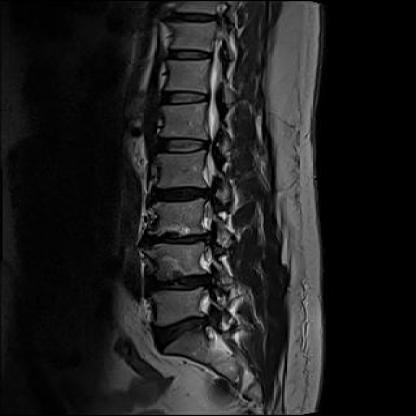Disc Bulgerotation: (137, 210, 250, 257), (140, 310, 221, 352)
